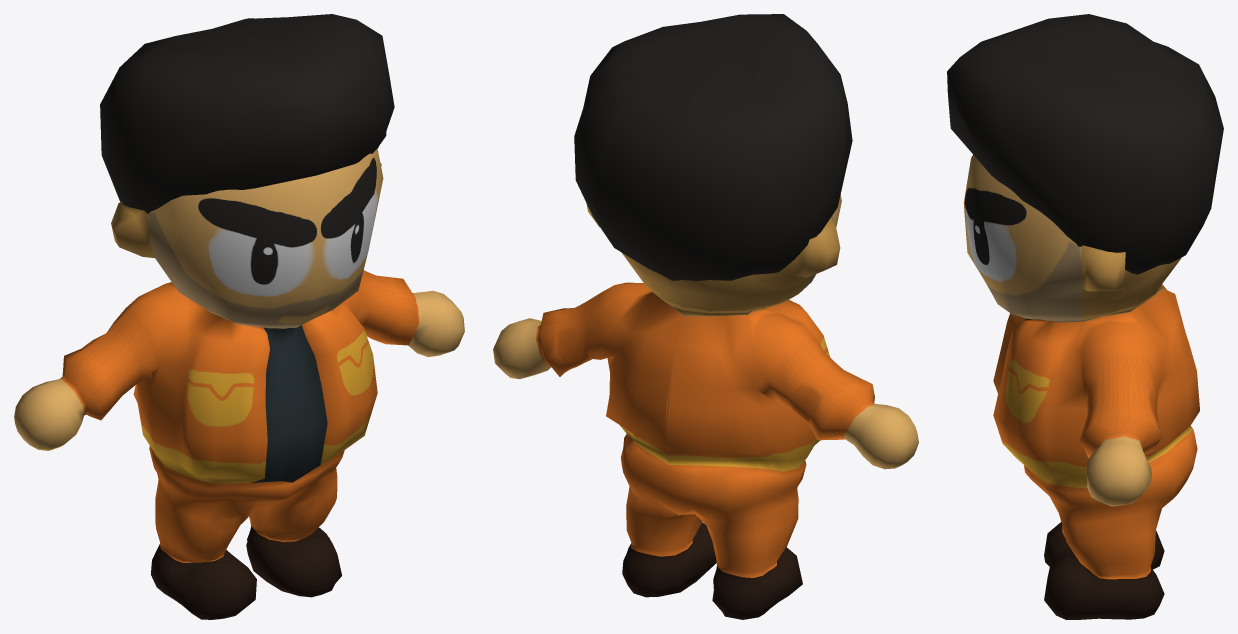
Rendered from Modelo1.fbx_Character04.fbx.
The picture shows the model from 3 angles, left to right: view 1: azimuth 30°, elevation 25°; view 2: azimuth 150°, elevation 25°; view 3: azimuth 270°, elevation 25°; orthographic projection. The views are drawn at different scales.
Visible parts, largest first — view 1: Character04; view 2: Character04; view 3: Character04.
Boxes of the visible parts, x1,y1,x2,y2 form: Character04: [14, 14, 464, 619]; Character04: [493, 14, 918, 619]; Character04: [947, 14, 1223, 619].
Size of the model in its own units: 83.62 by 103 by 47.63.
Materials: 1 (1 with a texture image).
